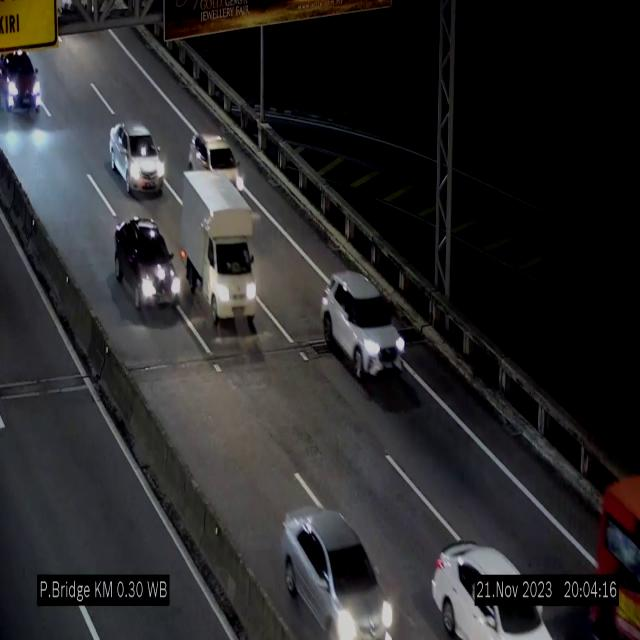Car: (423, 530, 571, 640), (284, 505, 394, 640), (321, 273, 405, 378), (112, 212, 182, 316), (109, 122, 165, 196), (187, 130, 248, 196), (0, 48, 47, 119)
Truck: (181, 166, 259, 329)
